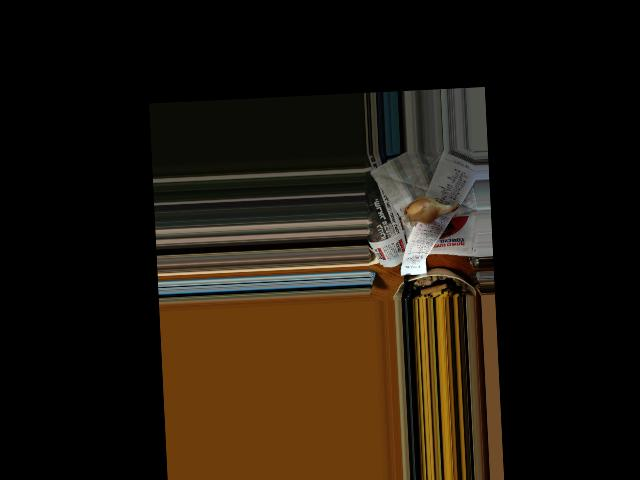onion: (400, 196, 444, 222)
